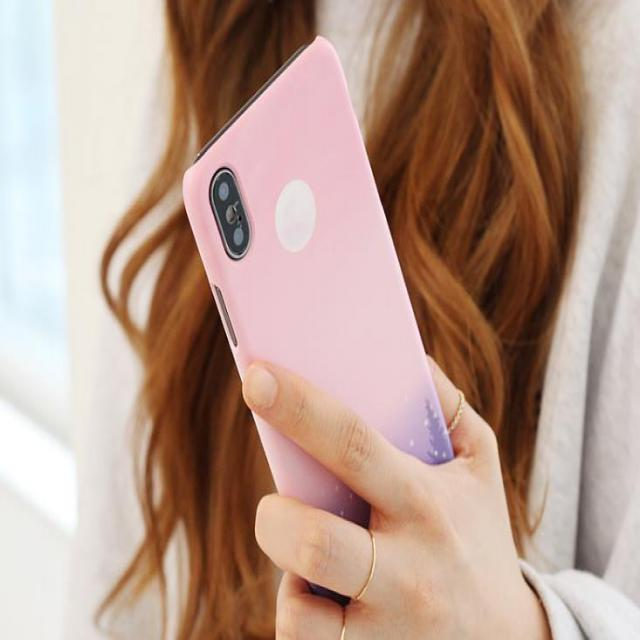phone: (182, 36, 460, 621)
